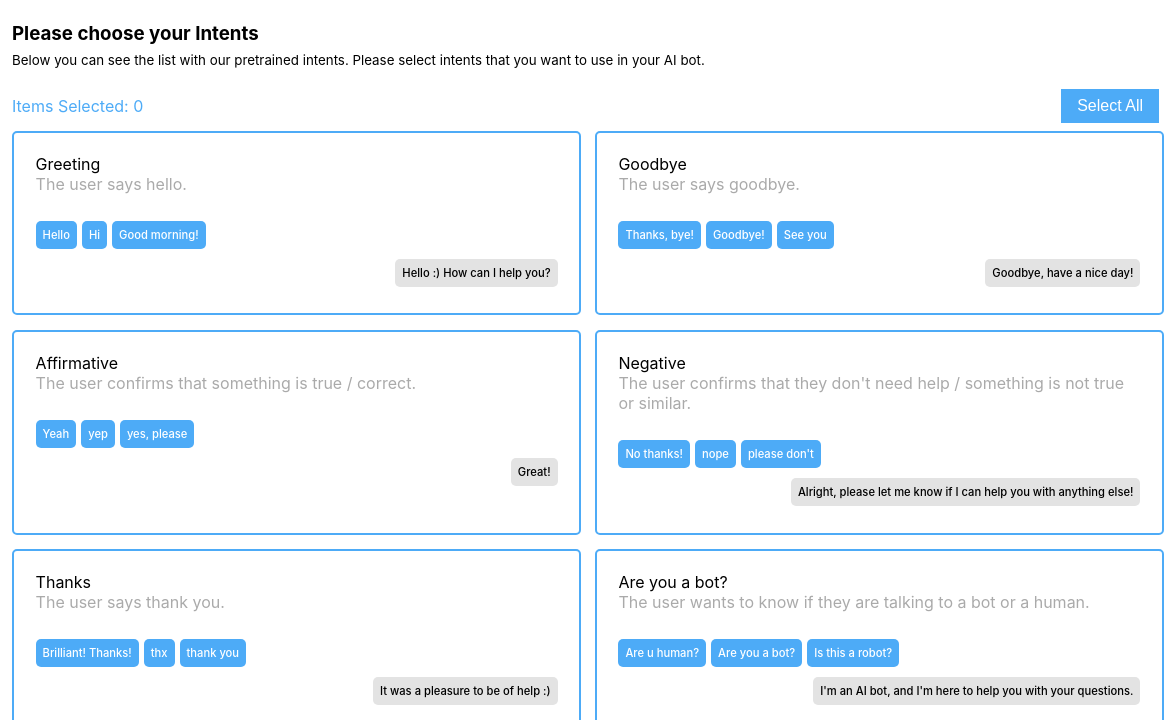
Scenario: Toggle one item
The width and height of the screenshot is (1164, 720).
Click button
Step 1. Click the cell that starts with "Greeting" → (297,223), box 12,131 -> 581,315
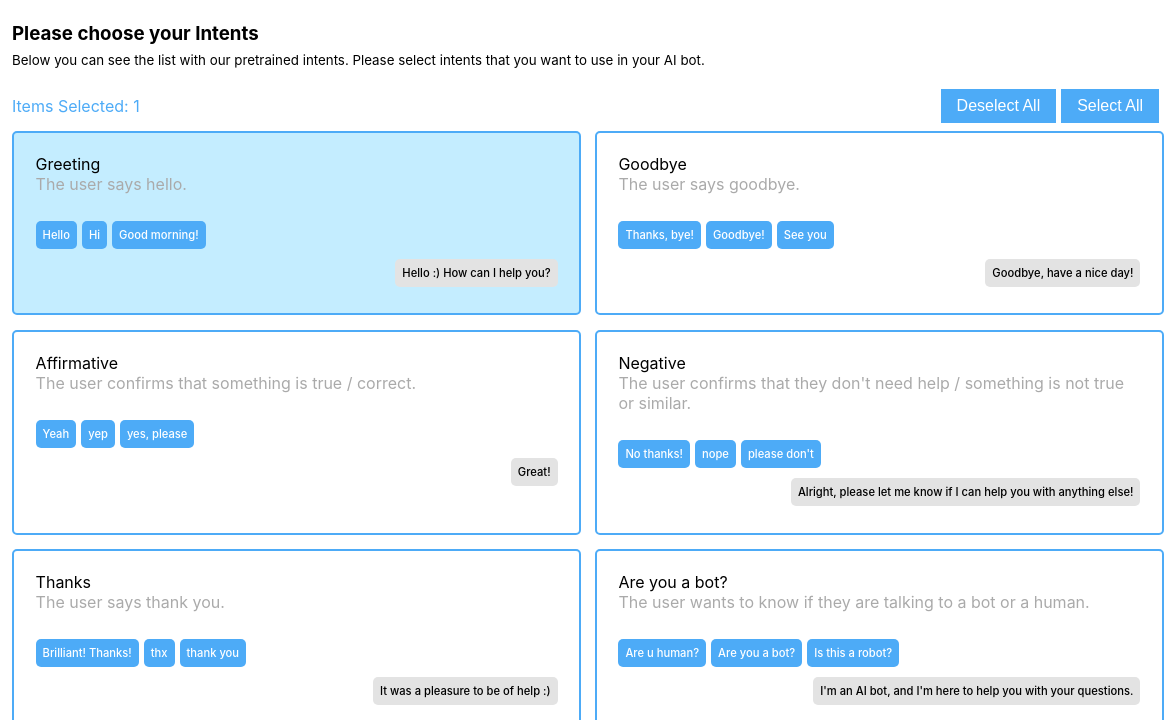
Now the number of cells with test id "selected" is 1
Now the number of cells with test id "unselected" is 9
Now the text with test id "counter" reads "1", box 133,96 -> 140,116
Click button
Step 2. Click the cell with test id "selected" → (297,223), box 12,131 -> 581,315
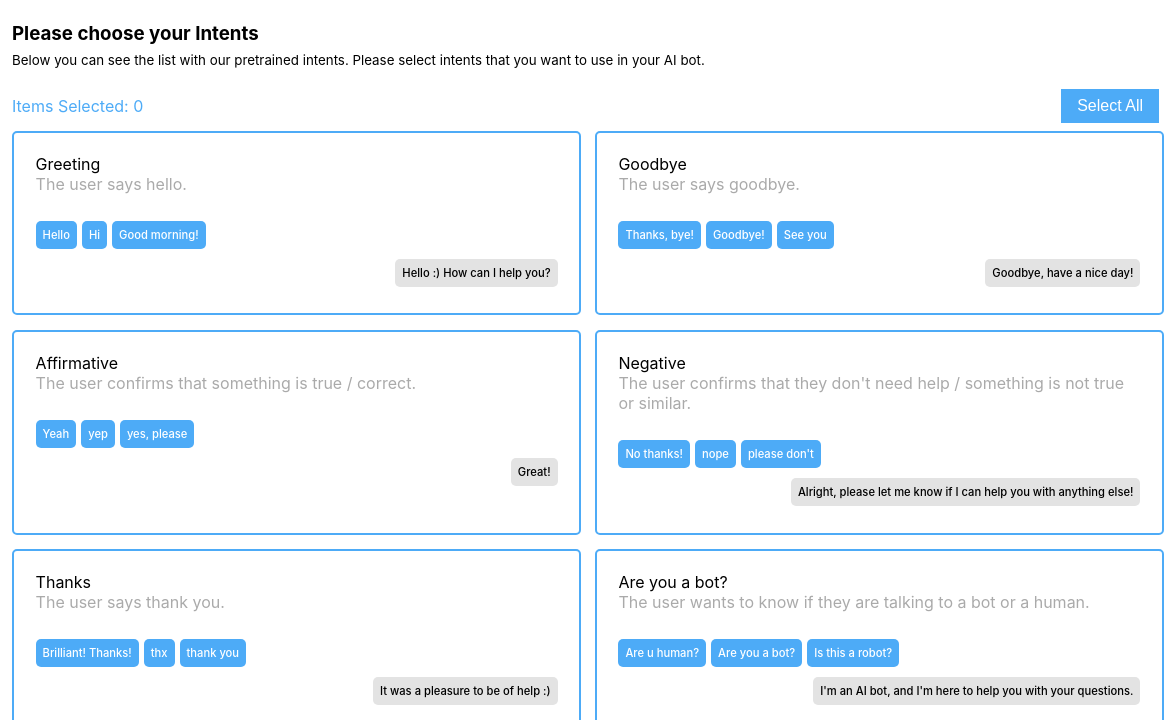
Now the number of cells with test id "unselected" is 10
Now the text with test id "counter" reads "0", box 133,96 -> 143,116
